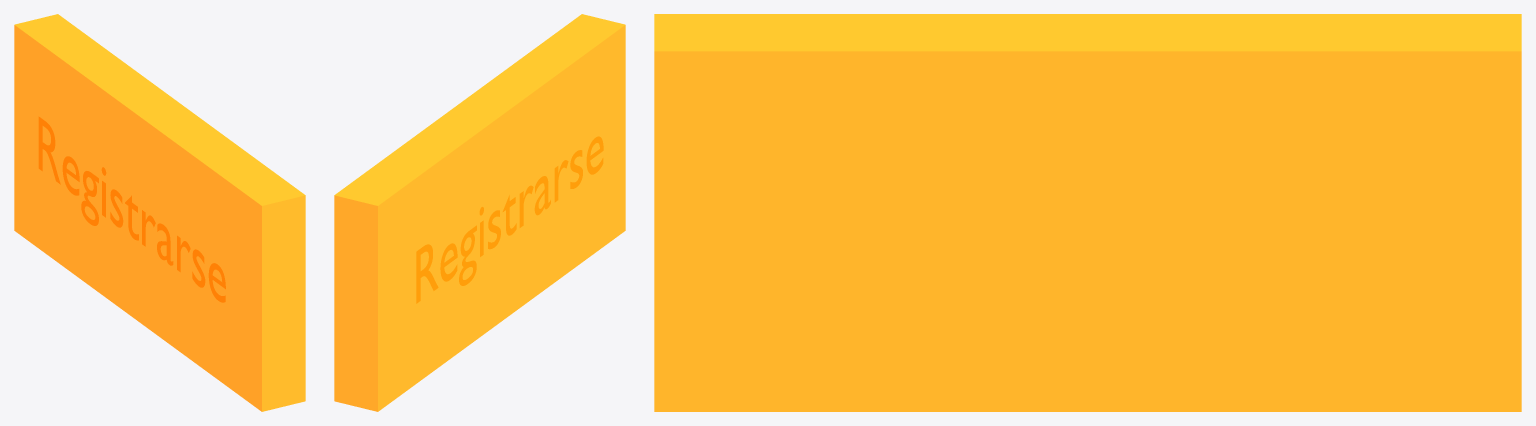
File: boton.glb
3 renders of one model, left to right at view 1: azimuth 30°, elevation 25°; view 2: azimuth 150°, elevation 25°; view 3: azimuth 270°, elevation 25°, orthographic. The views are drawn at different scales.
Visible parts, largest first — view 1: BotonRegistro, Text; view 2: BotonRegistro, Text; view 3: BotonRegistro.
Part boxes in pixels (<box>): BotonRegistro: <box>14,14,305,411</box>; Text: <box>38,116,225,302</box>; BotonRegistro: <box>334,14,625,411</box>; Text: <box>416,136,603,303</box>; BotonRegistro: <box>654,14,1521,411</box>.
Size of the model in its own units: 0.0278 by 0.1079 by 0.2353.
